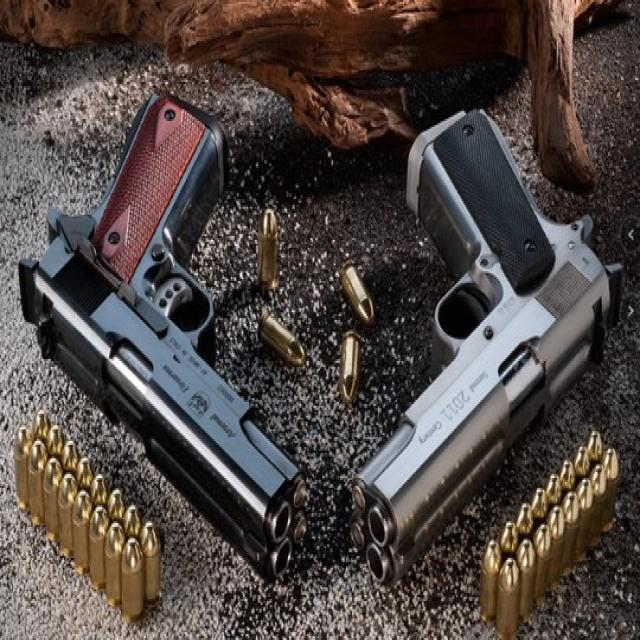handgun: (16, 88, 307, 569), (351, 100, 622, 599)
